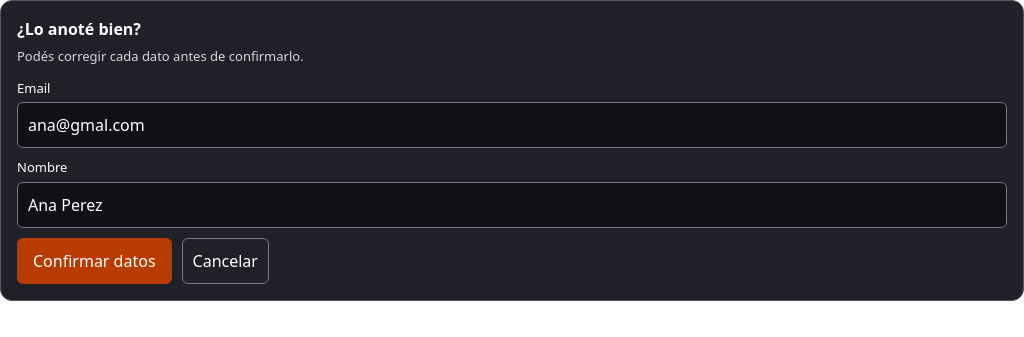
Test: Editable voice data confirmation › preserves input after disconnection and permits a retry
Click the button "Confirmar datos": (94, 260) [17,238,172,284]
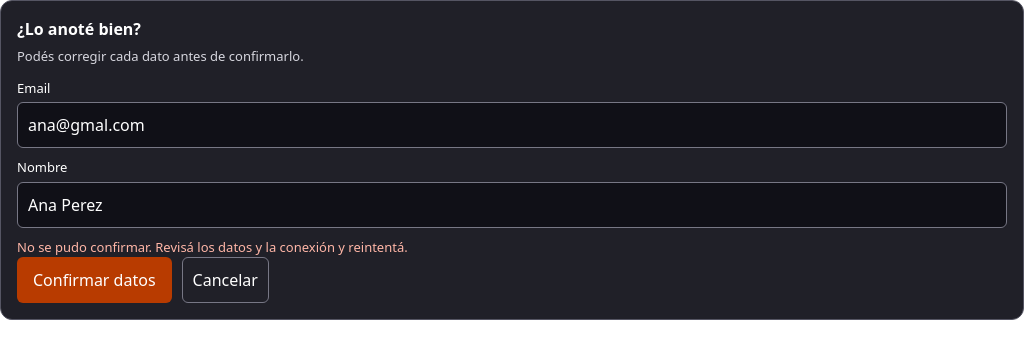
Expected: the field labelled "Email" holds "ana@gmal.com", [17,102,1007,148]
Expected: the message "No se pudo confirmar. Revisá los datos y la conexión y reintentá." is shown, [17,238,408,256]
